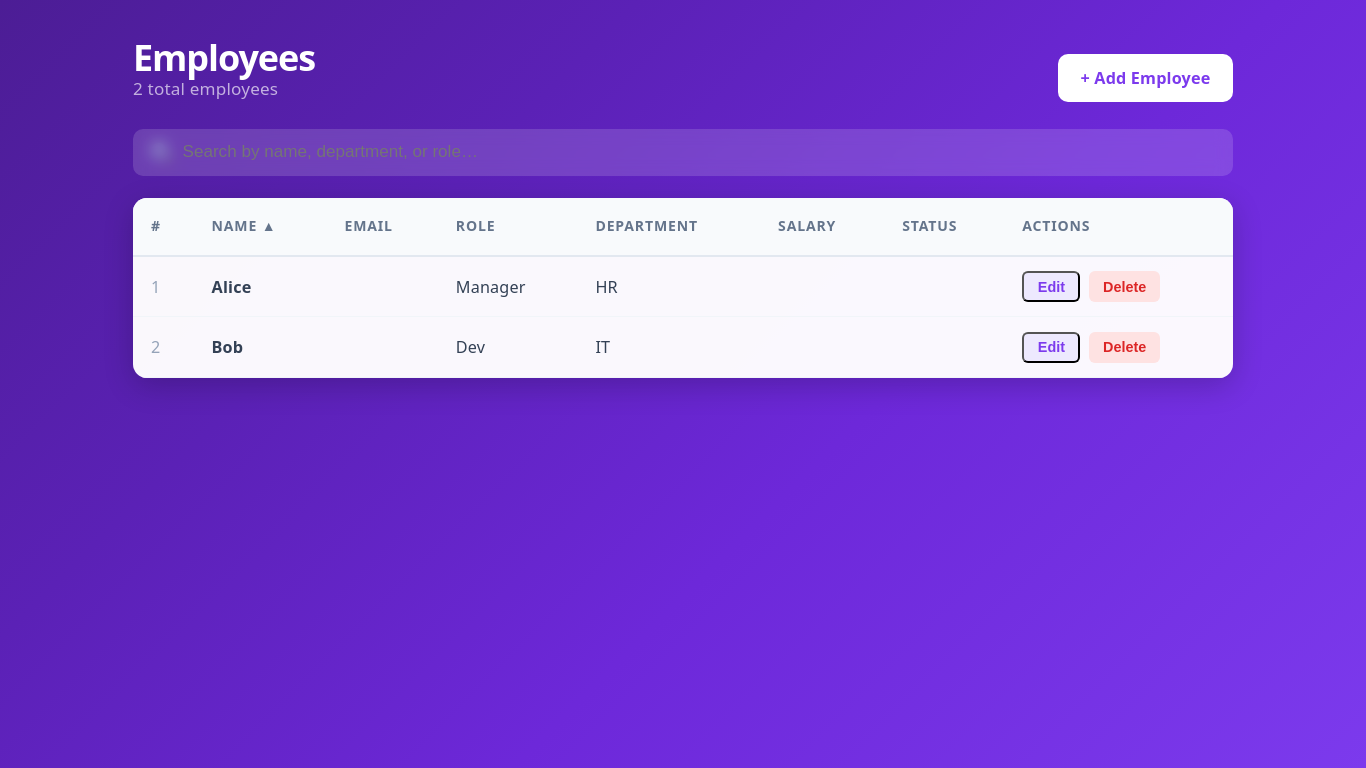
Employees Page › filters employees by search input
This screenshot has width=1366, height=768.
Expected: the text "Alice" is shown, [194, 256, 326, 317]
In the field with placeholder "Search by name, department, or role…": x=683, y=152 [133, 129, 1233, 176], type "hr"
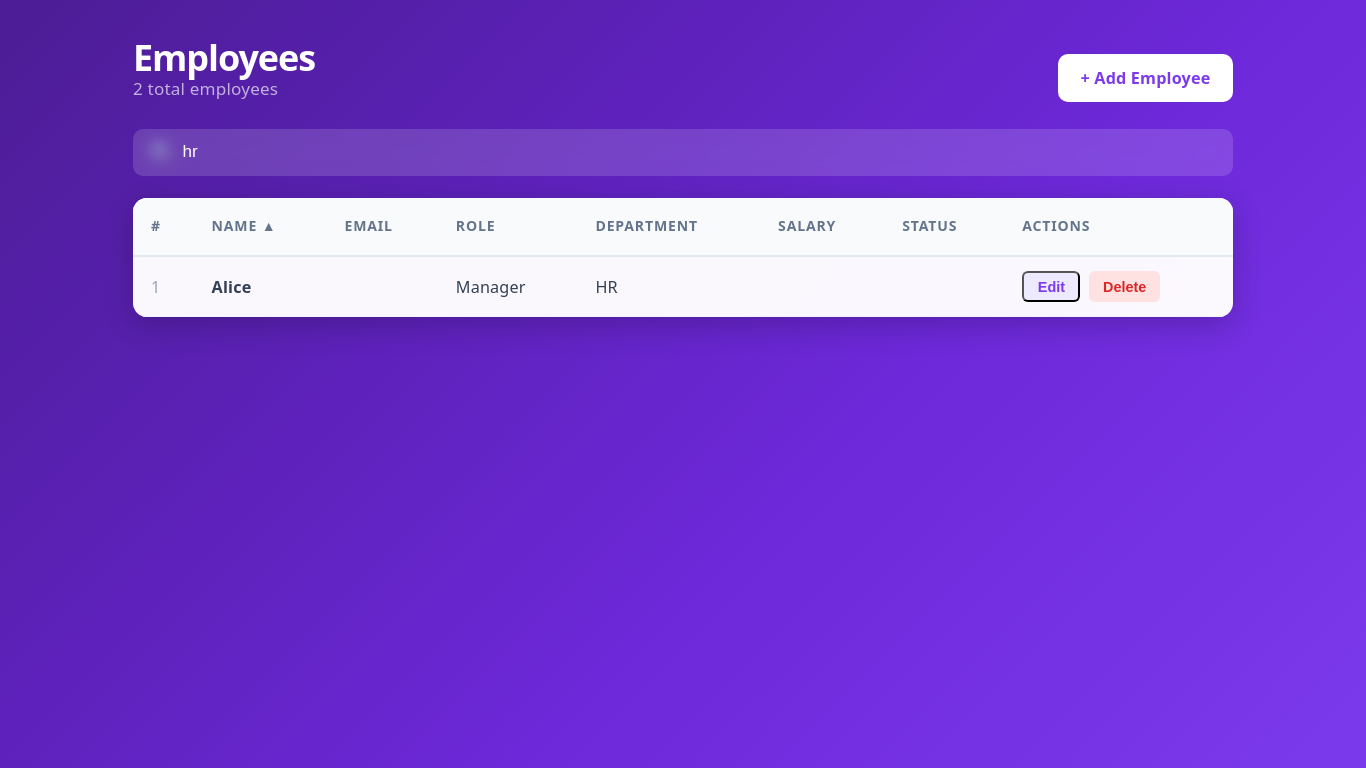
Expected: the text "Alice" is shown, [194, 256, 326, 317]
Result: the text "Bob" is gone
